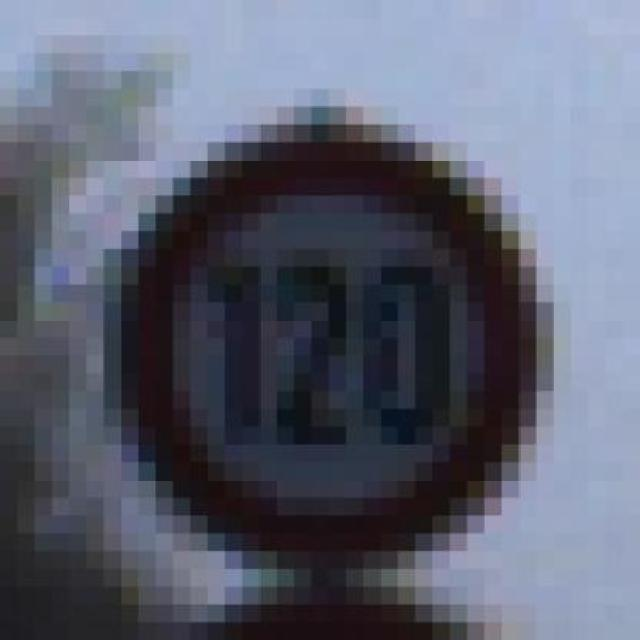forb_speed_over_120: (133, 142, 519, 555)
